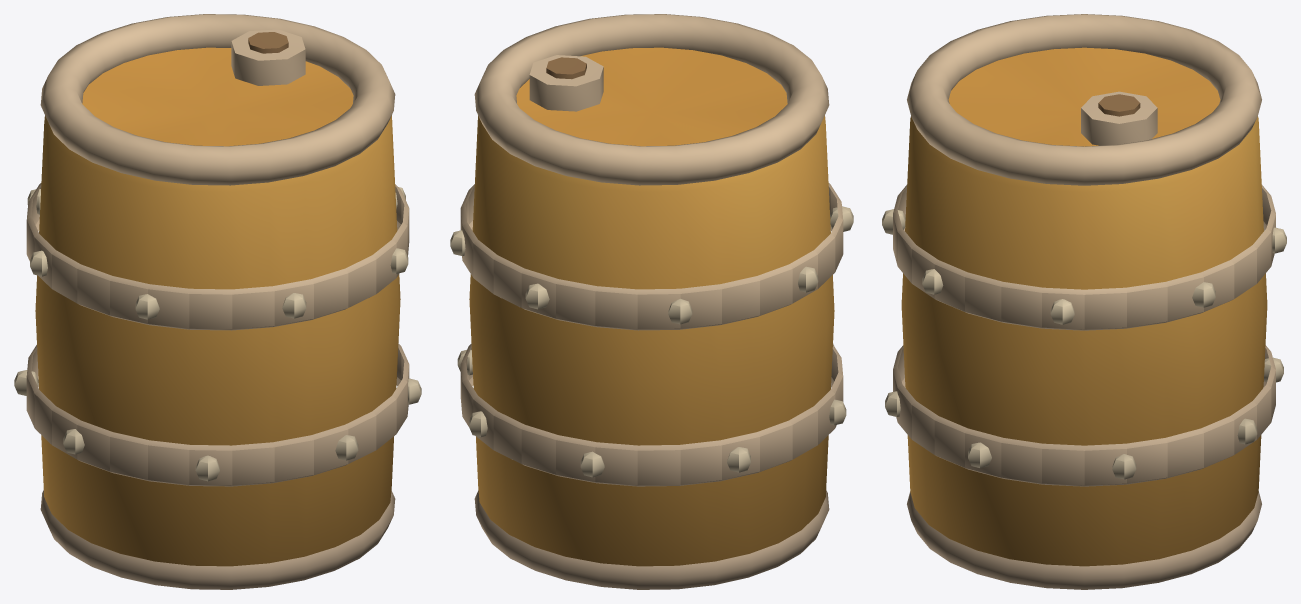
Rendered from cen_valak_barril_0.glb.
The picture shows the model from 3 angles, left to right: view 1: azimuth 30°, elevation 25°; view 2: azimuth 150°, elevation 25°; view 3: azimuth 270°, elevation 25°; orthographic projection.
Visible parts, largest first — view 1: barril; view 2: barril; view 3: barril.
Boxes of the visible parts, x1,y1,x2,y2 form: barril: (14,14,421,589); barril: (450,14,853,589); barril: (882,14,1286,589).
Bounding box in the file's own units: 1.17 × 1.43 × 1.16.
